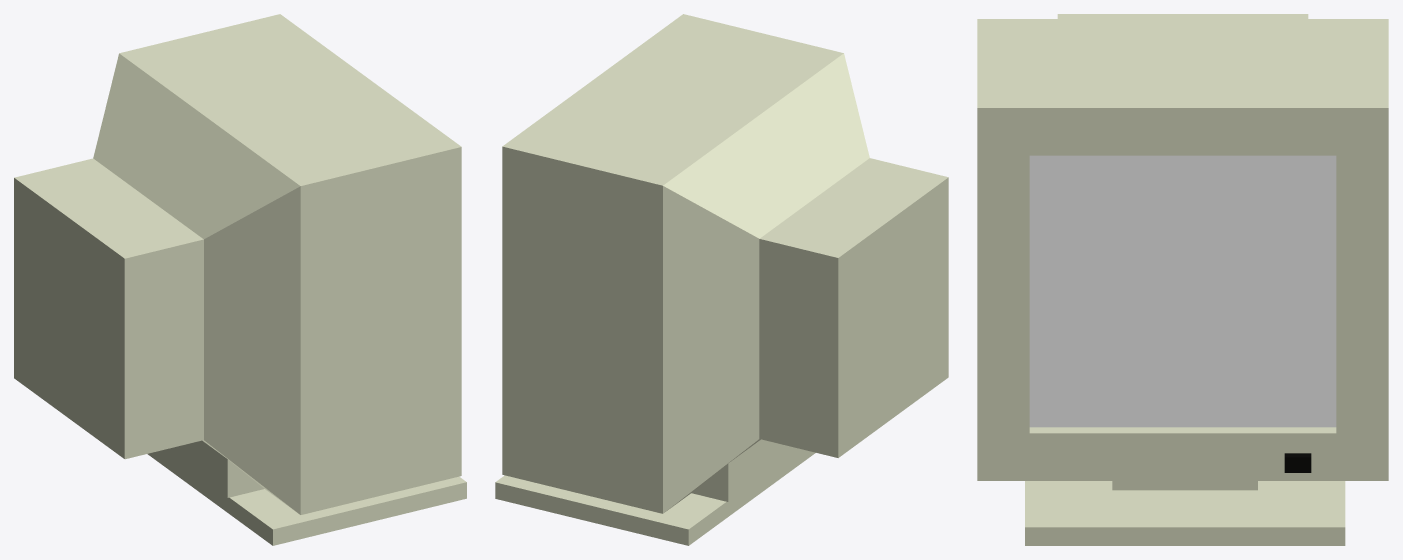
File: monitorOld.fbx
3 views of the same model, side by side, from view 1: azimuth 30°, elevation 25°; view 2: azimuth 150°, elevation 25°; view 3: azimuth 270°, elevation 25° (orthographic). The views are drawn at different scales.
Visible parts, largest first — view 1: Monitor, Back_Monitor; view 2: Monitor, Back_Monitor; view 3: Monitor, Screen.
Boxes of the visible parts, x1,y1,x2,y2 form: Monitor: (14, 14, 466, 545); Back_Monitor: (162, 440, 264, 497); Monitor: (495, 14, 948, 545); Back_Monitor: (691, 439, 800, 501); Monitor: (977, 14, 1388, 545); Screen: (1029, 155, 1336, 427).
Size of the model in its own units: 208 by 227 by 200.
